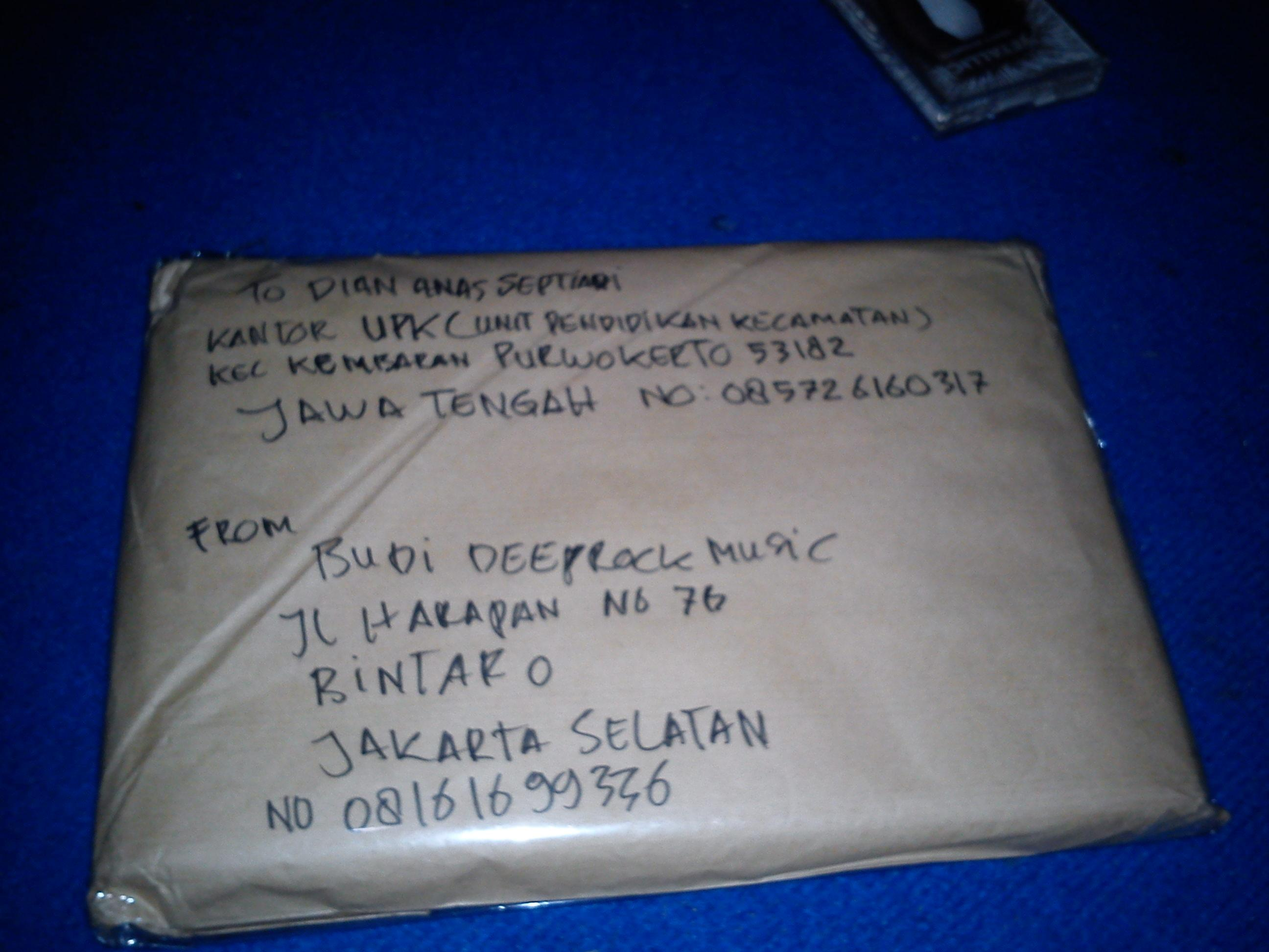undamaged: (61, 225, 1236, 951)
